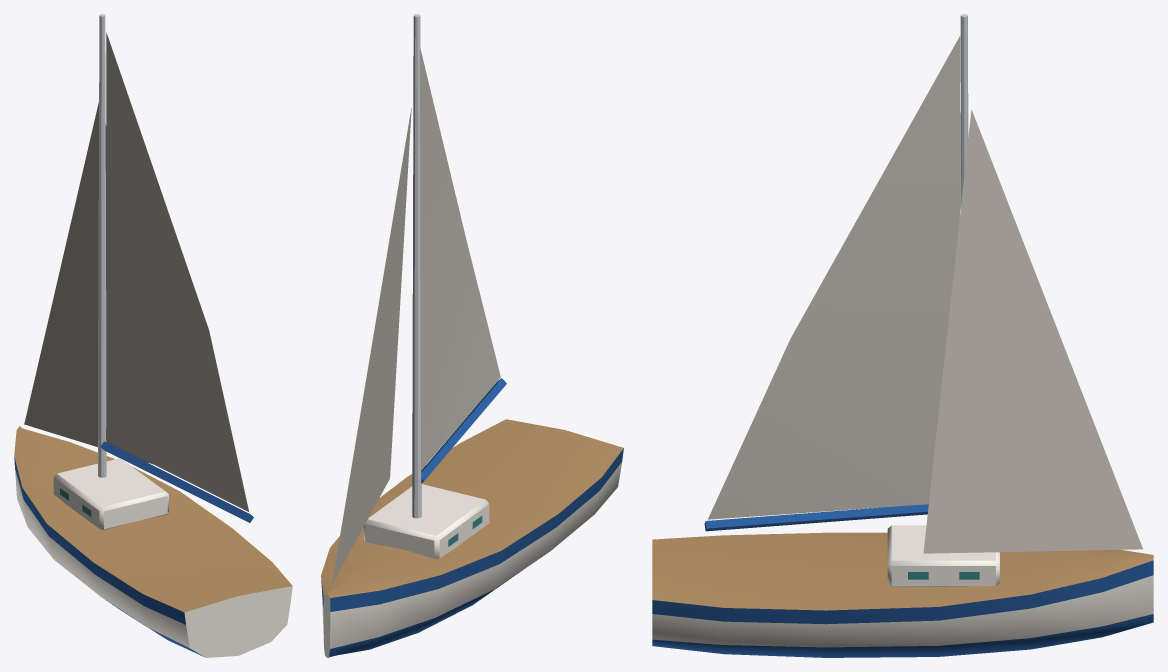
File: sailboat.glb
3 renders of one model, left to right at view 1: azimuth 30°, elevation 25°; view 2: azimuth 150°, elevation 25°; view 3: azimuth 270°, elevation 25°, orthographic. The views are drawn at different scales.
Visible parts, largest first — view 1: boat; view 2: boat; view 3: boat.
Boxes of the visible parts, box(x1,y1,x2,y2) form: boat: box(14, 14, 292, 657); boat: box(321, 14, 623, 657); boat: box(652, 14, 1153, 657).
Bounding box in the file's own units: 1.8 × 6.8 × 4.9.
